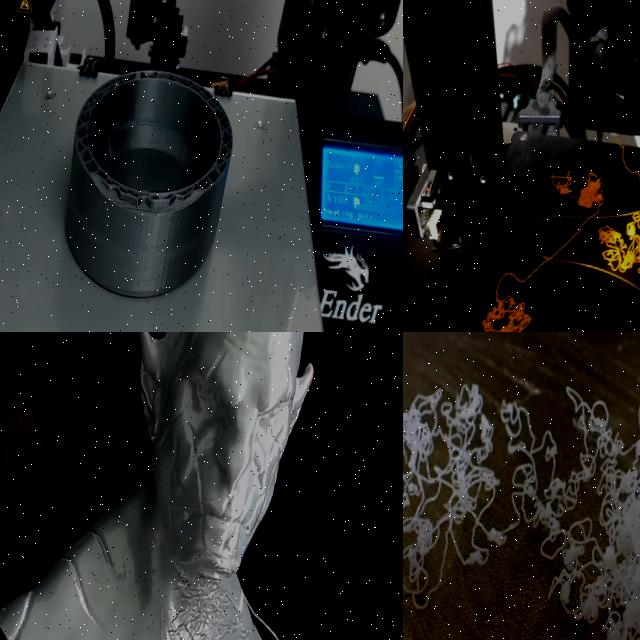spaghetti: (403, 332, 640, 640), (80, 550, 334, 640), (477, 298, 545, 332), (542, 160, 582, 202), (580, 165, 611, 216)
